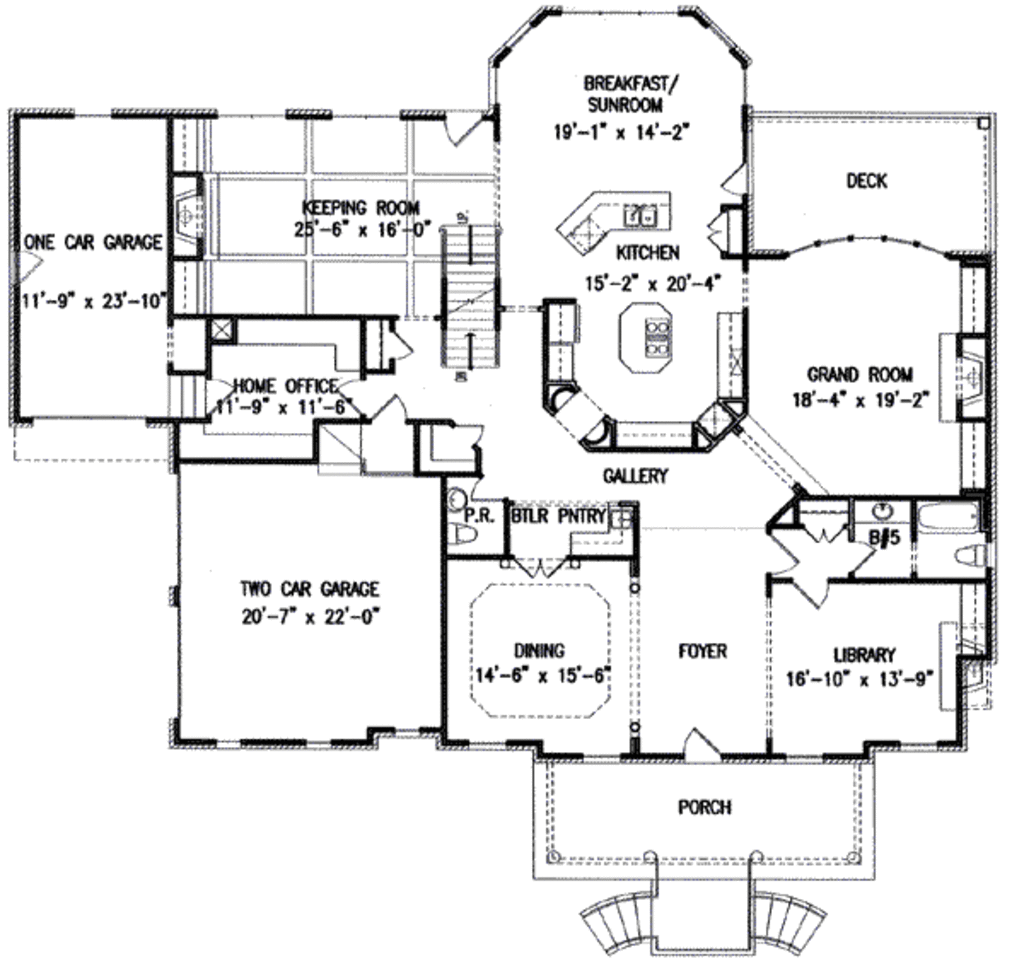door: (763, 527, 806, 583), (678, 722, 725, 763), (441, 414, 493, 450), (362, 395, 410, 428), (440, 114, 481, 151), (512, 556, 572, 581), (717, 158, 754, 197), (388, 325, 418, 370), (793, 573, 827, 610), (806, 522, 850, 547), (706, 212, 728, 254)
kitchen_bar: (549, 188, 675, 259), (609, 294, 679, 378)
large_sink: (435, 516, 483, 548), (950, 541, 990, 576)
stairs: (581, 881, 827, 961), (436, 211, 503, 384)
tub: (912, 500, 990, 537)
windows: (775, 227, 948, 263), (548, 2, 694, 23), (208, 732, 334, 754), (205, 101, 301, 122), (575, 744, 618, 768), (777, 750, 837, 762)
